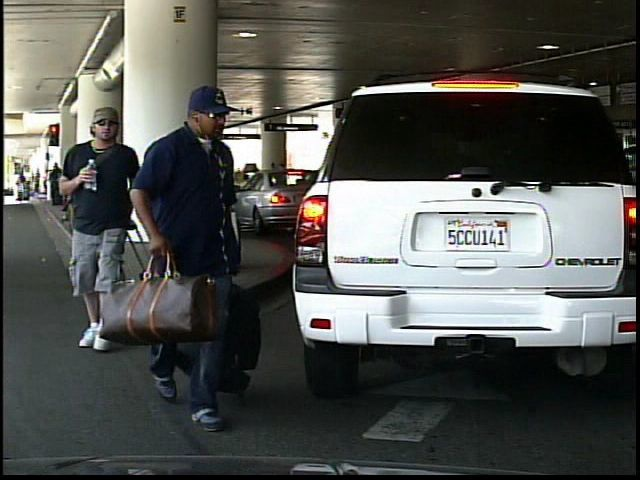person: (141, 77, 260, 427), (66, 101, 155, 354), (163, 131, 223, 269)
